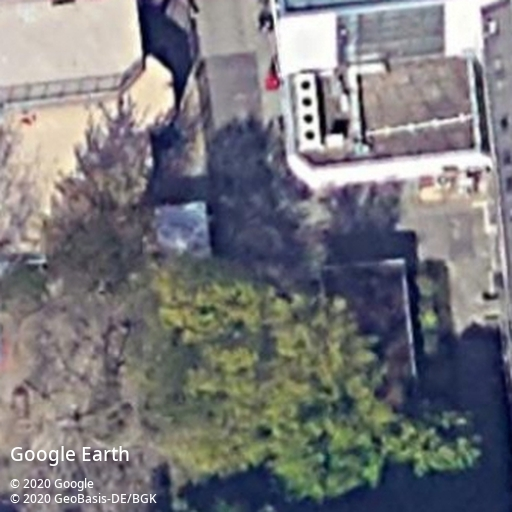Chiller: (293, 71, 325, 152)
